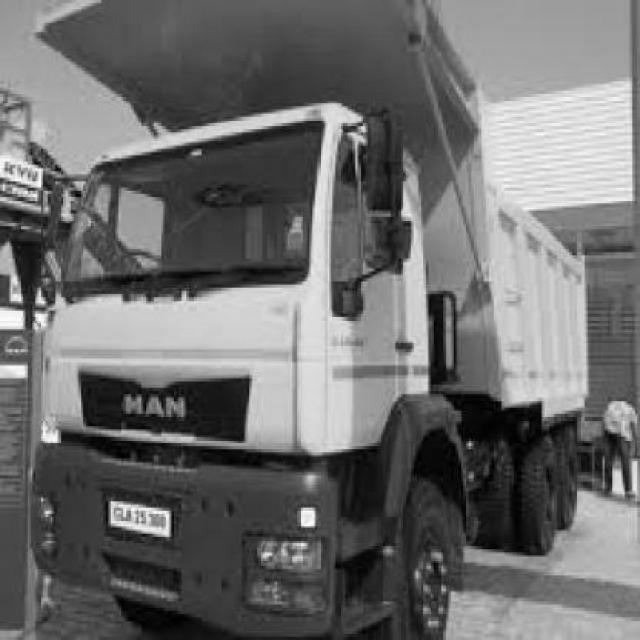Truck- Multi-Axle: (30, 0, 589, 640)
